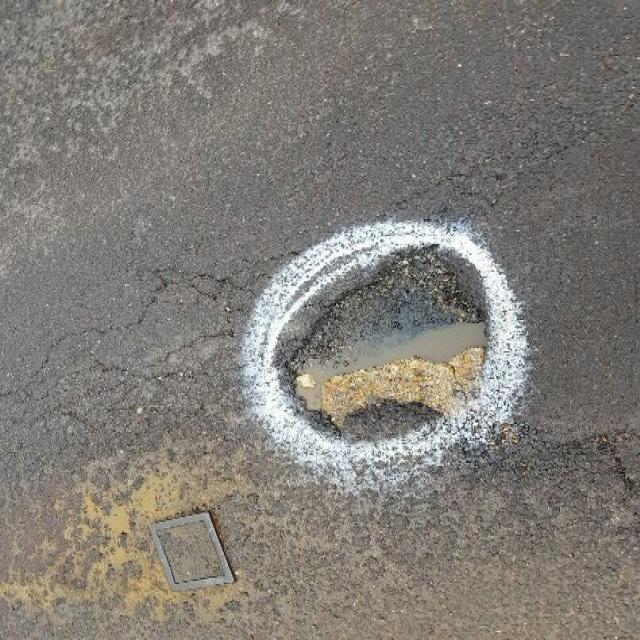pothole: (276, 236, 492, 430)
